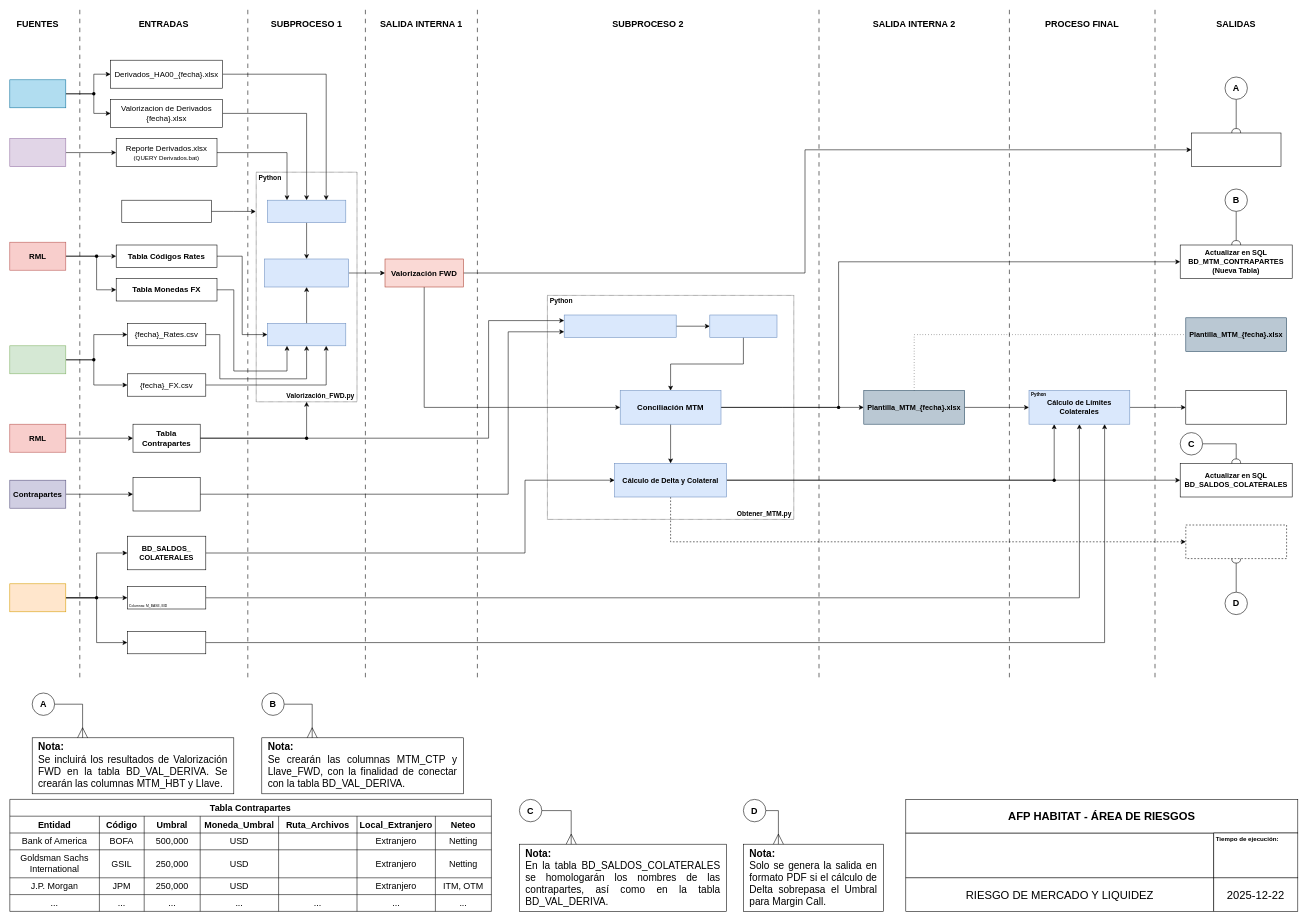
The diagram is 1308 pixels wide and 921 high, and some of its shapes have lost their labels. The box of each missing label's shape, as (x1, y1, x2, y2) in pixels:
20 min: (1213, 832, 1298, 878)
Actualizar en SQL BD_VAL_DERIVA: (1191, 132, 1281, 167)
Archivos Contrapartes (Extranjero): (132, 477, 200, 511)
BD_BGFONDOS: (127, 631, 206, 654)
BD_TIPOCAMBIO: (127, 586, 206, 609)
Bloomberg: (9, 345, 66, 374)
Consolidación: (709, 314, 777, 337)
Fecha de valorización: (121, 200, 211, 223)
Generar_Derivados: (267, 200, 346, 223)
Generar_Puntos_FWD: (267, 323, 346, 346)
Importar_Datos_Contrapartes: (564, 314, 676, 337)
MIDAS: (9, 138, 66, 167)
Notice_{Intención}_ F{f}_{fecha}.pdf: (1185, 524, 1287, 559)
Posición Colateral PEN (F1, F2, F3): (1185, 390, 1287, 424)
PROCESO AUTOMATIZADO DE VALORIZACIÓN ALTERNA DE FORWARDS Y LÍMITES COLATERALES: (905, 832, 1214, 878)
SBS: (9, 79, 66, 108)
SQL: (9, 583, 66, 612)
Valorización Alterna: (264, 258, 349, 287)
